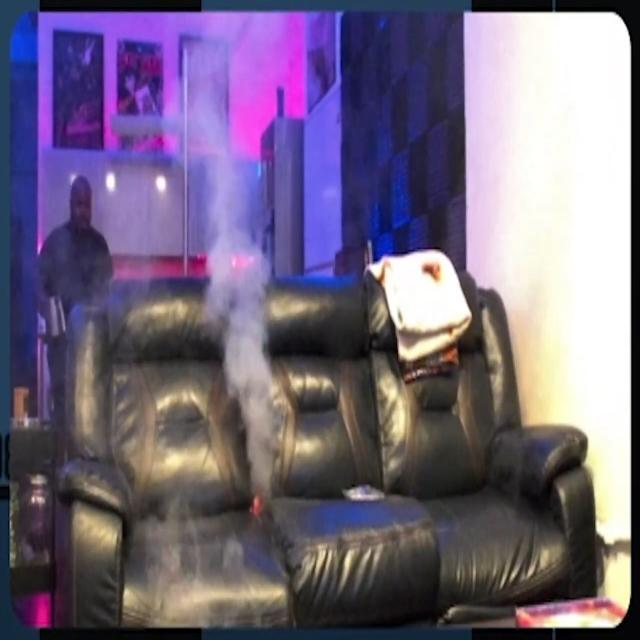Smoke: (198, 89, 302, 471)
